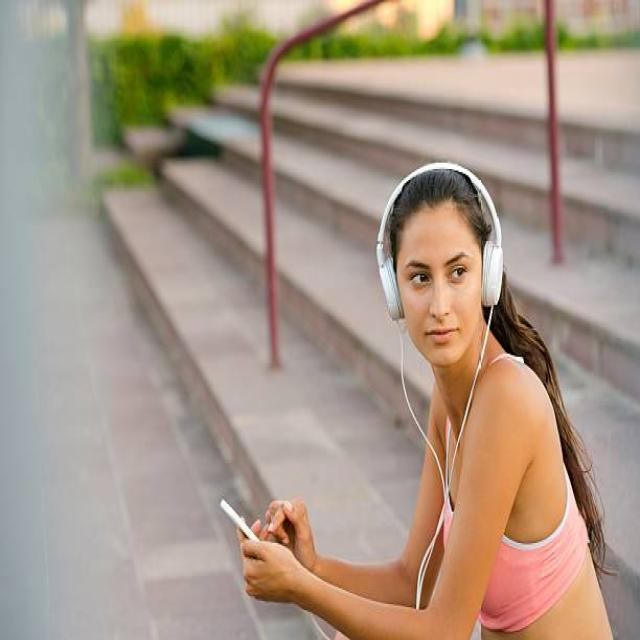Headphone: (376, 161, 505, 325)
